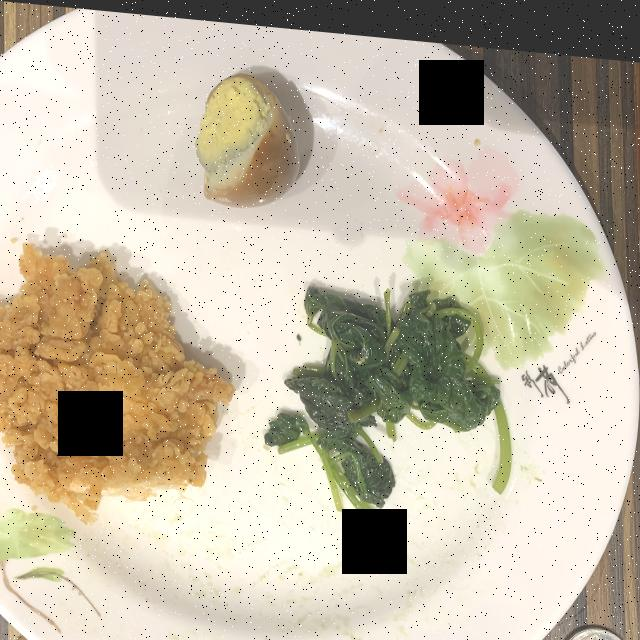coin: (562, 615, 631, 640)
fried chicken cutlet: (0, 242, 233, 520)
soy egg: (196, 68, 300, 202)
sweet potato leaves: (264, 278, 511, 516)
